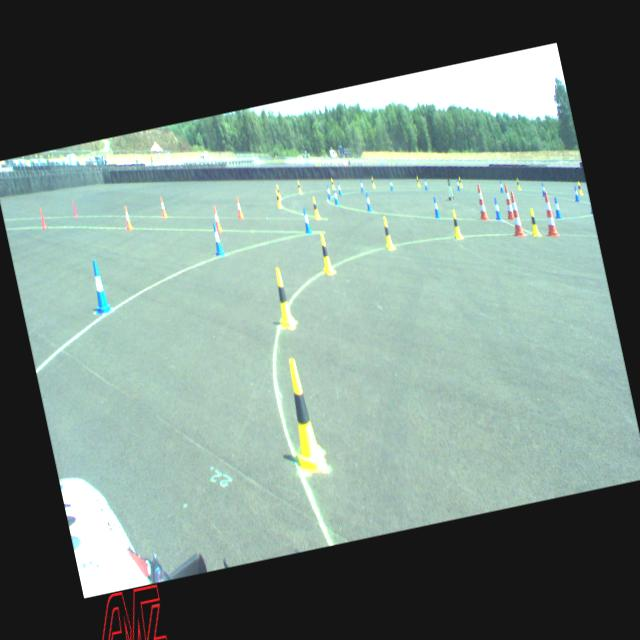blue_cone: (86, 260, 112, 314), (208, 220, 224, 258), (300, 206, 312, 234), (491, 196, 502, 220), (552, 197, 562, 220), (430, 196, 440, 218), (363, 191, 372, 212), (572, 184, 580, 202), (324, 184, 332, 200), (332, 188, 339, 206), (539, 181, 546, 197), (336, 182, 342, 196), (358, 179, 364, 192), (454, 178, 460, 190), (422, 178, 428, 190), (498, 178, 503, 192), (388, 178, 393, 190)
large_orange_cone: (538, 190, 560, 239), (506, 190, 526, 239), (472, 183, 489, 222), (499, 184, 515, 222)
orange_cone: (210, 205, 222, 232), (121, 204, 133, 230), (157, 196, 168, 218), (234, 196, 244, 218)
unknown_cone: (36, 206, 46, 228), (70, 200, 78, 217)
yellow_cone: (276, 356, 327, 476), (268, 267, 296, 330), (315, 230, 337, 278), (448, 208, 464, 241), (526, 207, 542, 238), (380, 215, 394, 250), (310, 196, 321, 220), (274, 189, 282, 209), (275, 183, 282, 200), (576, 180, 582, 195), (296, 180, 302, 193), (330, 177, 336, 190), (514, 177, 520, 190), (370, 175, 376, 187), (414, 175, 420, 187), (457, 175, 462, 188)
